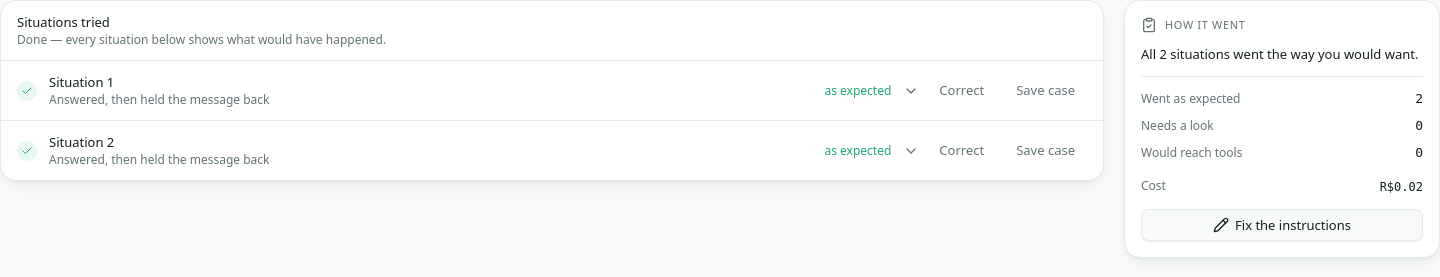
Test case: simulation report › only marks the case being saved as pending
This screenshot has width=1440, height=277.
Click the 1st button "Save case" at (1046, 90), box x1=1004 y1=76 x2=1087 y2=104
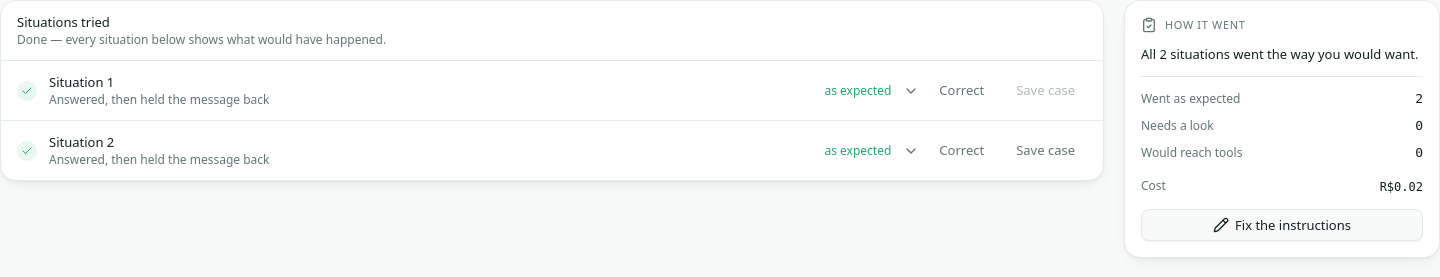
Expected: the 2nd button "Save case" is enabled, x1=1004 y1=136 x2=1087 y2=164
Expected: the 1st button "Save case" is disabled, x1=1004 y1=76 x2=1087 y2=104
